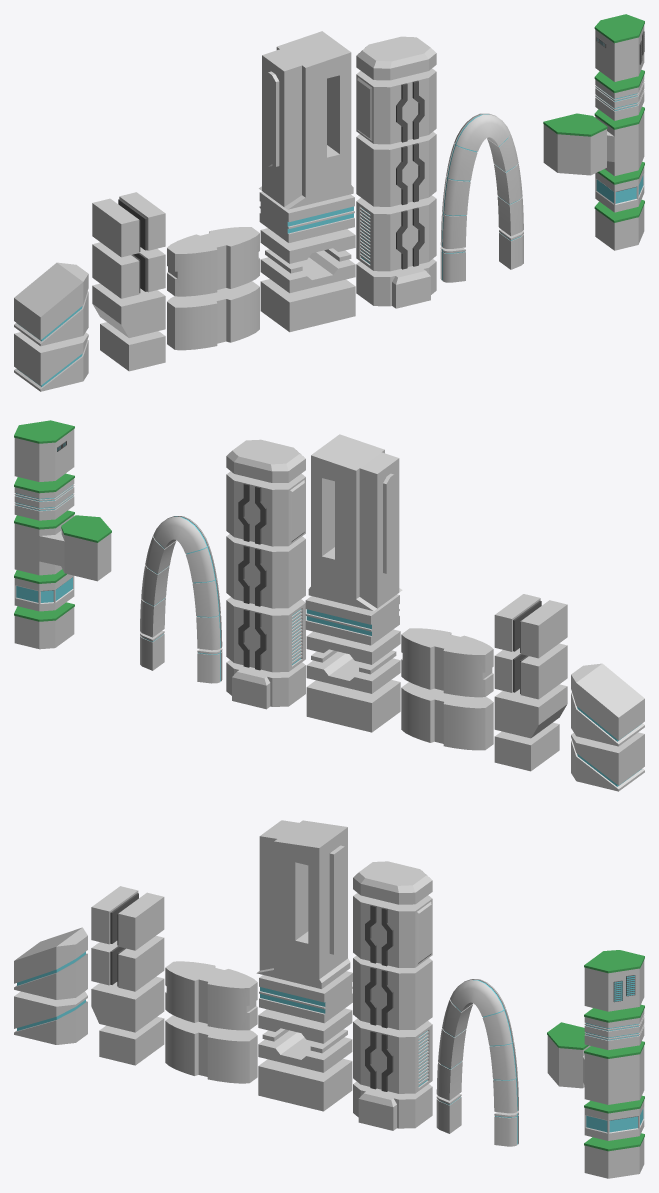
Rendered from SkyScraper Set.fbx.
The picture shows the model from 3 angles, top to bottom: view 1: azimuth 30°, elevation 25°; view 2: azimuth 150°, elevation 25°; view 3: azimuth 330°, elevation 25°; orthographic projection.
Visible parts, largest first — view 1: SkyO, Sky arch, Sky tower split, Cyllinder sky groove, Sky Hex grill, Sky hex plate, Sky hex, Cyllinder sky, DiagonalSky Top, USky U Top, Sky bottom, DiagonalSky Bottom (+14 smaller); view 2: SkyO, Sky arch, Sky tower split, Cyllinder sky groove, Sky Hex grill, Sky hex plate, Sky hex, Cyllinder sky, DiagonalSky Top, USky U Top, Sky bottom, Sky tower Vents (+14 smaller); view 3: SkyO, Sky arch, Sky tower split, Cyllinder sky groove, Sky Hex grill, Sky hex plate, Sky hex, Cyllinder sky, DiagonalSky Top, USky U Top, Sky bottom, Sky tower Vents (+14 smaller).
Boxes of the visible parts, x1,y1,x2,y2 form: SkyO: (259,31,353,209); Sky arch: (440,113,523,248); Sky tower split: (543,106,644,176); Cyllinder sky groove: (167,227,259,296); Sky Hex grill: (356,195,436,271); Sky hex plate: (356,68,436,144); Sky hex: (356,132,436,206); Cyllinder sky: (167,281,259,350); DiagonalSky Top: (14,262,88,346); USky U Top: (92,192,165,257); Sky bottom: (260,279,355,332); DiagonalSky Bottom: (14,332,88,391); SkyO: (308,434,402,610); Sky arch: (140,516,222,650); Sky tower split: (14,510,111,581); Cyllinder sky groove: (401,628,493,697); Sky Hex grill: (226,597,305,672); Sky hex plate: (226,471,305,546); Sky hex: (226,534,305,608); Cyllinder sky: (401,682,493,750); DiagonalSky Top: (571,663,644,746); USky U Top: (494,594,567,658); Sky bottom: (306,680,400,732); Sky tower Vents: (14,420,74,481); SkyO: (256,820,350,988); Sky arch: (436,979,518,1113); Sky tower split: (547,1022,644,1104); Cyllinder sky groove: (165,961,257,1030); Sky Hex grill: (353,1018,432,1093); Sky hex plate: (353,893,432,967); Sky hex: (353,955,432,1030); Cyllinder sky: (165,1015,257,1083); DiagonalSky Top: (14,927,87,999); USky U Top: (91,886,164,950); Sky bottom: (258,1058,352,1111); Sky tower Vents: (584,950,644,1011).
Size of the model in its own units: 382 by 157 by 36.56.
